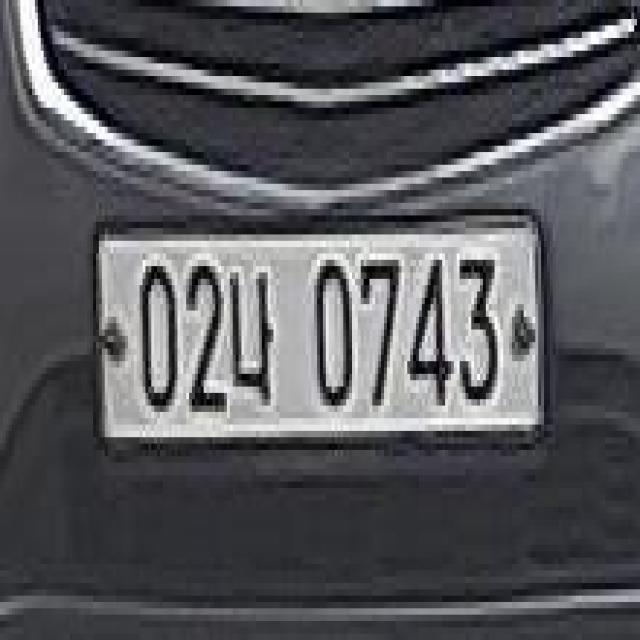illegal_plate: (92, 200, 543, 472)
